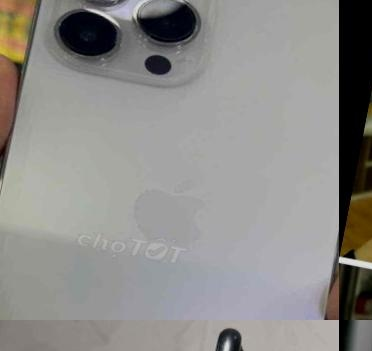scratch: (205, 327, 248, 351)
